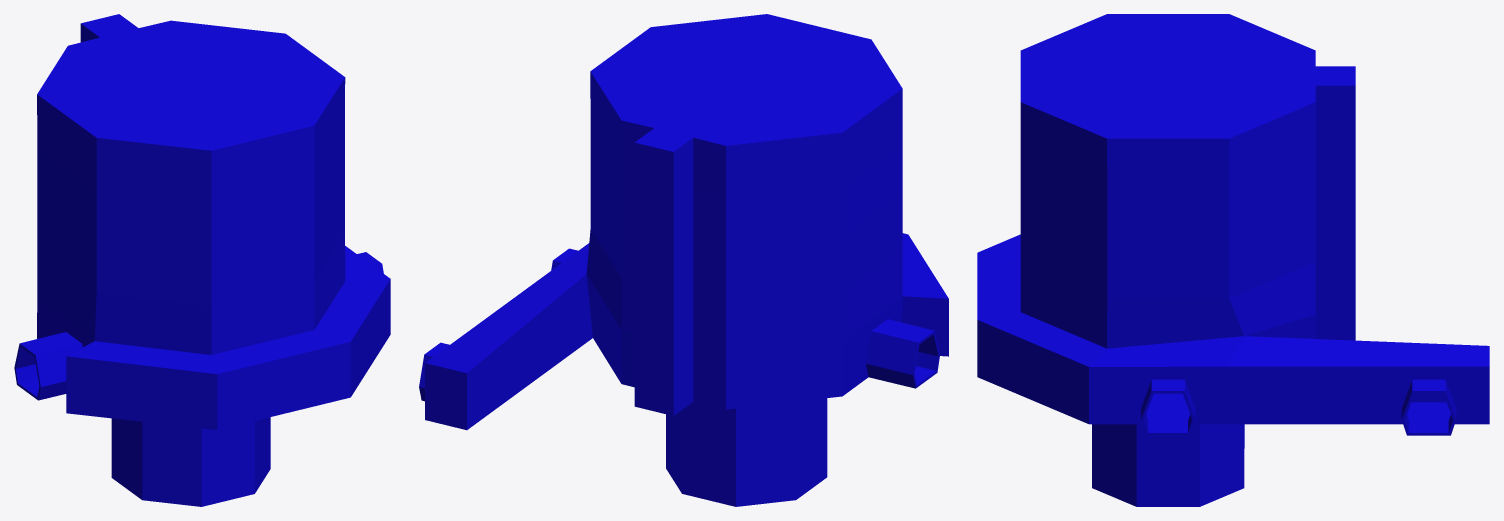
The model's file is room.001_collider.glb.
3 renders of one model, left to right at view 1: azimuth 30°, elevation 25°; view 2: azimuth 150°, elevation 25°; view 3: azimuth 270°, elevation 25°, orthographic. The views are drawn at different scales.
Parts seen in each view (by area): view 1: room.001_collider; view 2: room.001_collider; view 3: room.001_collider.
Boxes of the visible parts, left/top/right/bottom form: room.001_collider: left=14, top=14, right=390, bottom=506; room.001_collider: left=419, top=14, right=948, bottom=506; room.001_collider: left=977, top=14, right=1489, bottom=506.
Bounding box in the file's own units: 28.98 × 30.38 × 35.39.
